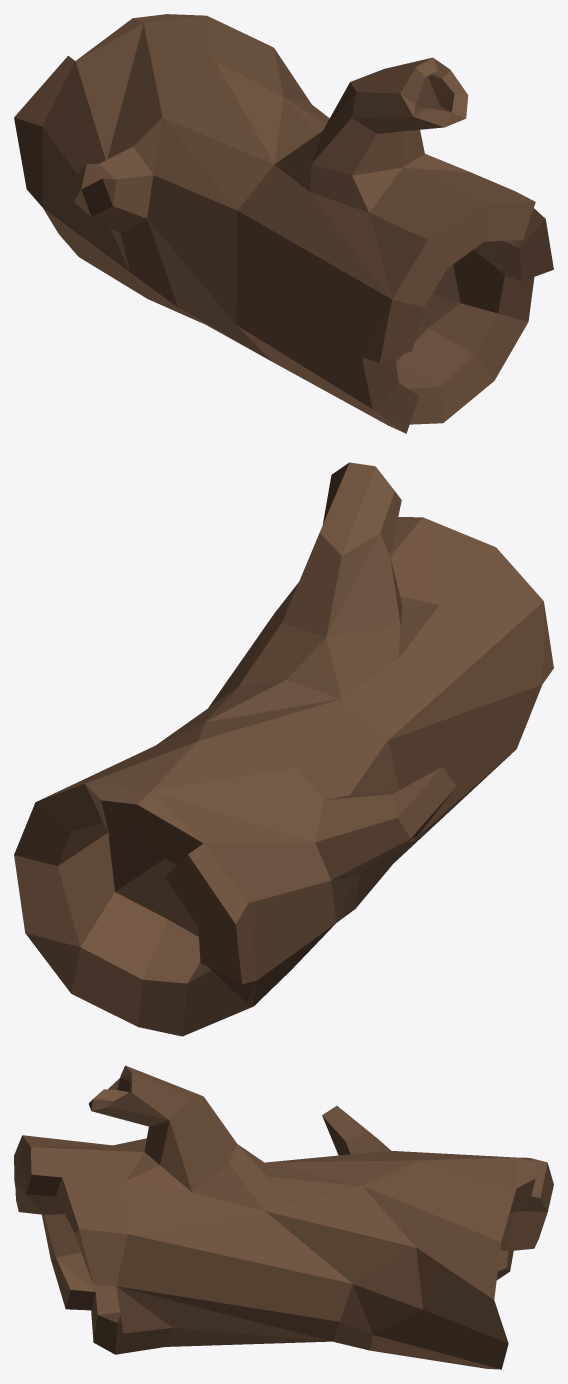
The model's file is Tree_trunk.fbx.
3 views of the same model, one above another, from view 1: azimuth 30°, elevation 25°; view 2: azimuth 150°, elevation 25°; view 3: azimuth 270°, elevation 25° (orthographic). The views are drawn at different scales.
Parts seen in each view (by area): view 1: Tree trunk; view 2: Tree trunk; view 3: Tree trunk.
Boxes of the visible parts, box(x1,y1,x2,y2) form: Tree trunk: box(14, 14, 553, 433); Tree trunk: box(14, 462, 553, 1036); Tree trunk: box(14, 1065, 553, 1369).
Size of the model in its own units: 53.57 by 59.74 by 96.45.
